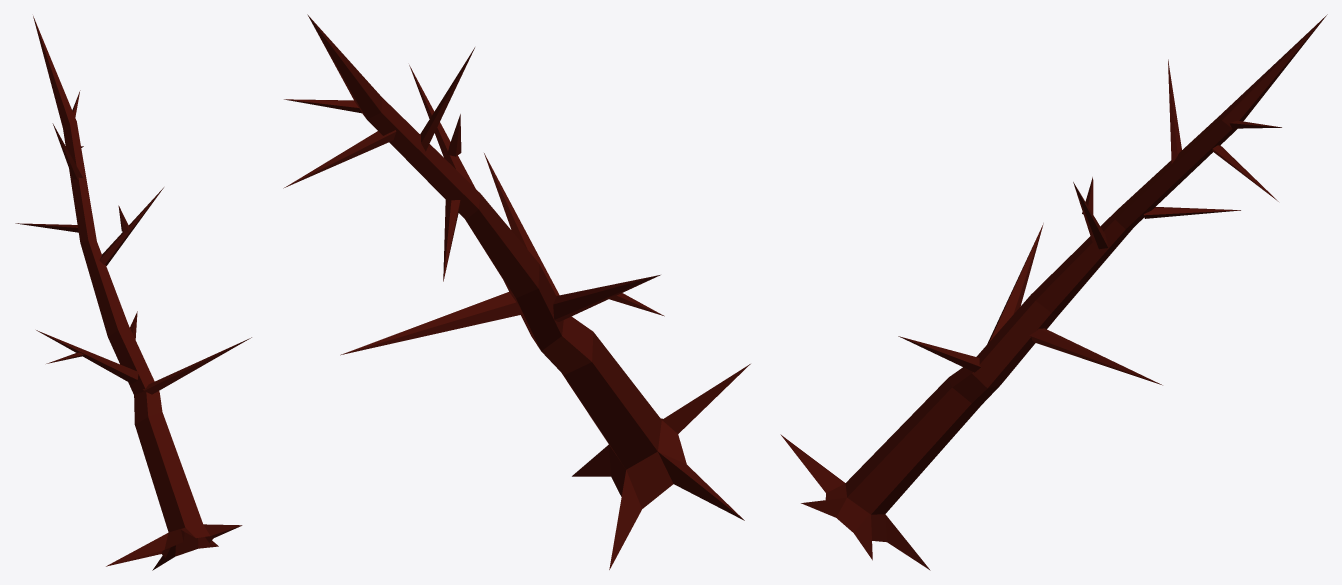
Rendered from vikingTreeDry.fbx.
The picture shows the model from 3 angles, left to right: view 1: azimuth 30°, elevation 25°; view 2: azimuth 150°, elevation 25°; view 3: azimuth 270°, elevation 25°; orthographic projection. The views are drawn at different scales.
Parts seen in each view (by area): view 1: tree-dry; view 2: tree-dry; view 3: tree-dry.
Boxes of the visible parts, x1=… form: tree-dry: x1=15, y1=16, x2=251, y2=570; tree-dry: x1=283, y1=14, x2=750, y2=569; tree-dry: x1=780, y1=14, x2=1327, y2=570.
Bounding box in the file's own units: 100 × 257 × 221.
